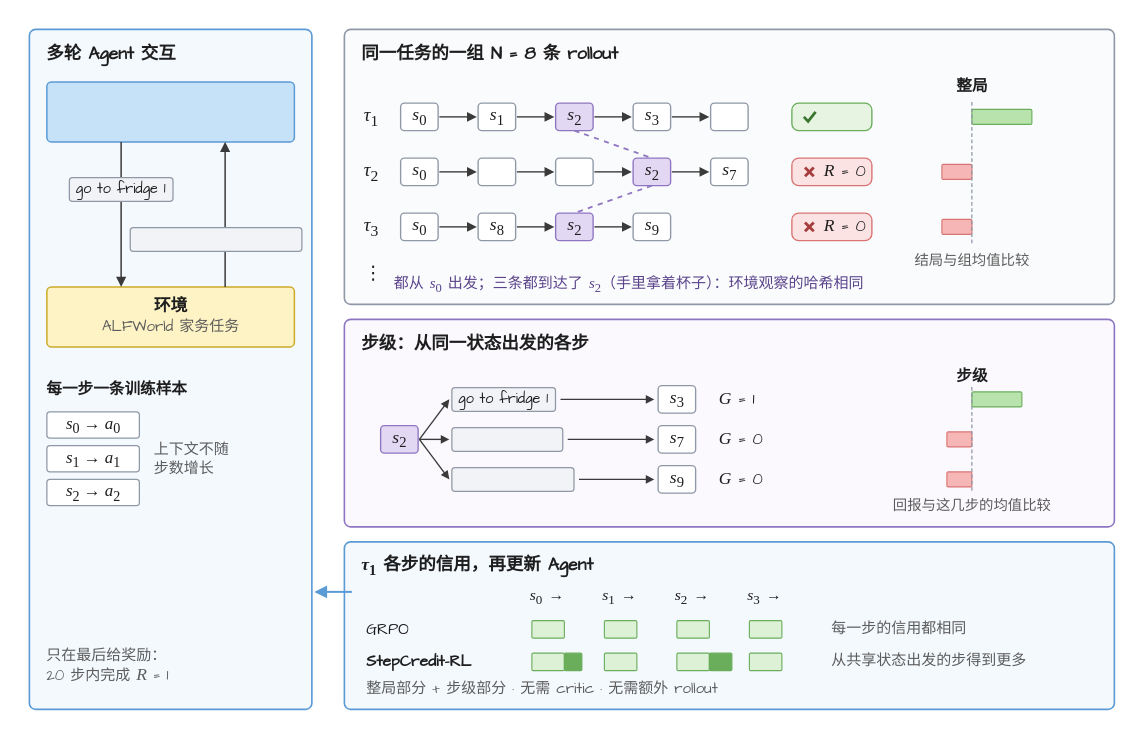
The diagram is 1143 pixels wide and 738 high, and some of its shapes have lost their labels. Each missing label, with the centre of its shape:
go to cabinet 1: (507,438)
go to sinkbasin 1: (512,478)
LLM Agent Qwen3-4B: (170,111)
R = 1: (831,116)
s 4: (728,116)
s 5: (496,171)
s 6: (573,171)
“You arrive at fridge 1.”: (215,238)
